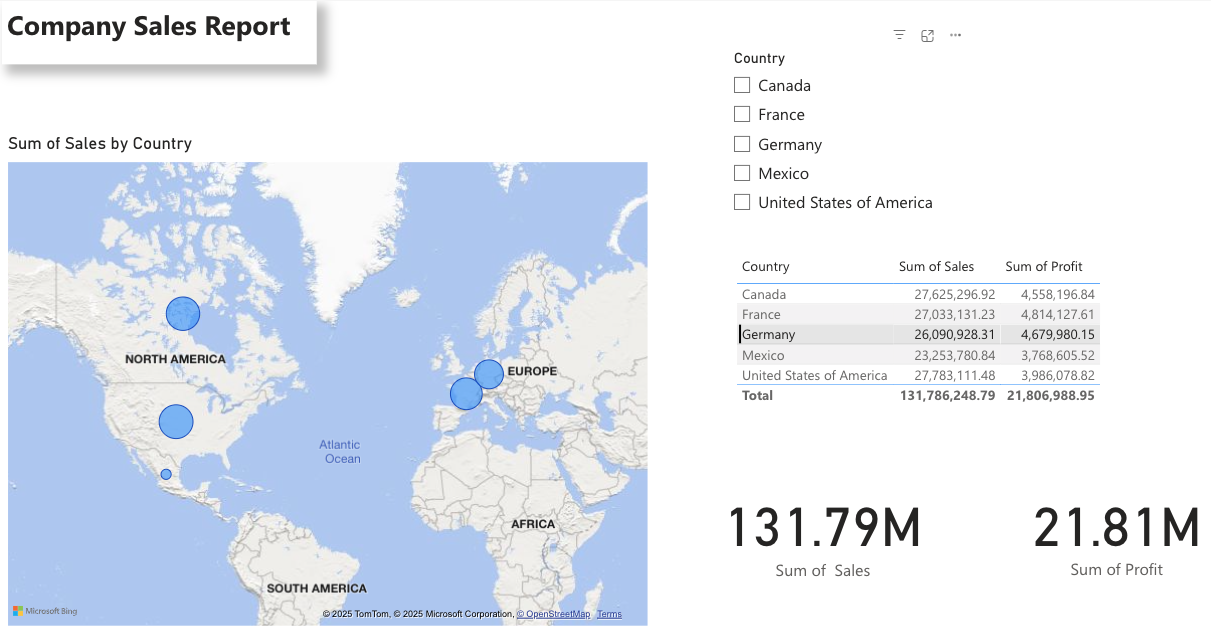

The page's visual inventory and layout, read from the dashboard file:
{"tool":"powerbi","page":{"name":"Page 1","canvas":[1280,720],"ordinal":0},"visuals":[{"type":"textbox","box":[8.4,0,312.6,63.4],"z":0},{"type":"map","fields":{"Size":["Sum(Financials. Sales)"],"Category":["Financials.Country"]},"box":[8.8,134.4,645.5,492.2],"z":1000},{"type":"card","fields":{"Values":["Sum(Financials. Sales)"]},"box":[695.2,427.9,258.5,198.6],"z":2000},{"type":"card","fields":{"Values":["Sum(Financials.Profit)"]},"box":[953.7,419.1,325.7,214.7],"z":3000},{"type":"tableEx","fields":{"Values":["Financials.Country","Sum(Financials. Sales)","Sum(Financials.Profit)"]},"box":[733.1,248.3,384.1,160.6],"z":4000},{"type":"slicer","fields":{"Values":["Financials.Country"]},"box":[722.9,45.3,245.4,203],"z":5000}]}

Visuals, with their boxes on the page's 1280x720 design canvas (x1, y1, x2, y2). These are canvas units, not pixel positions in the 1211x636 screenshot, which may show the page scaled, cropped or inside an application window:
textbox: {"left": 8, "top": 0, "right": 321, "bottom": 63}
map - Sum(Financials. Sales) x Financials.Country: {"left": 9, "top": 134, "right": 654, "bottom": 627}
card - Sum(Financials. Sales): {"left": 695, "top": 428, "right": 954, "bottom": 626}
card - Sum(Financials.Profit): {"left": 954, "top": 419, "right": 1279, "bottom": 634}
tableEx - Financials.Country x Sum(Financials. Sales): {"left": 733, "top": 248, "right": 1117, "bottom": 409}
slicer - Financials.Country: {"left": 723, "top": 45, "right": 968, "bottom": 248}
